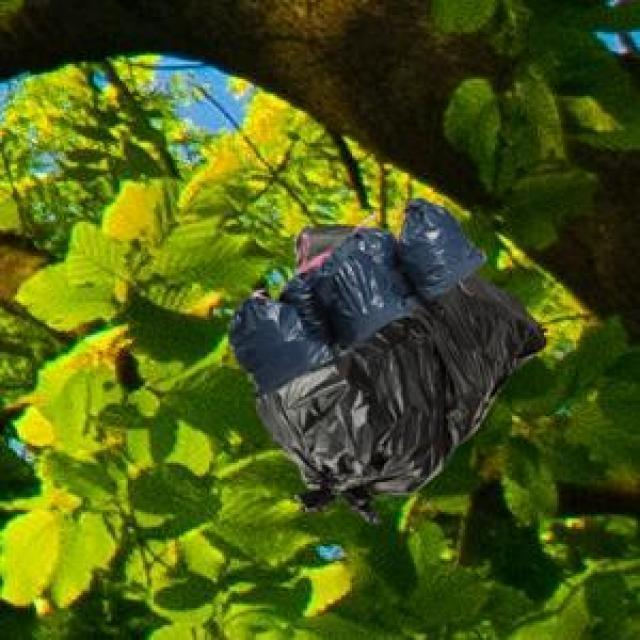waste: (255, 283, 545, 505), (292, 228, 418, 328), (402, 204, 488, 304), (229, 294, 329, 368)
